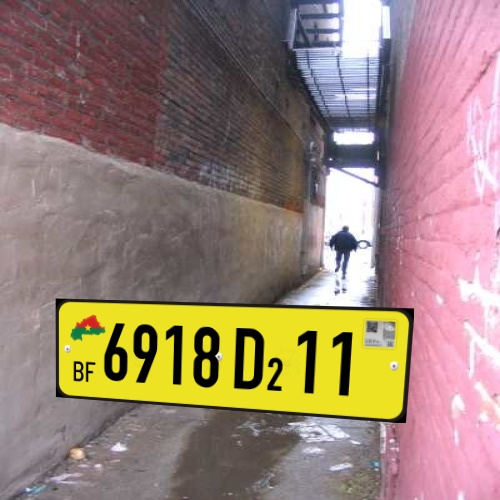plate: (47, 285, 427, 434)
